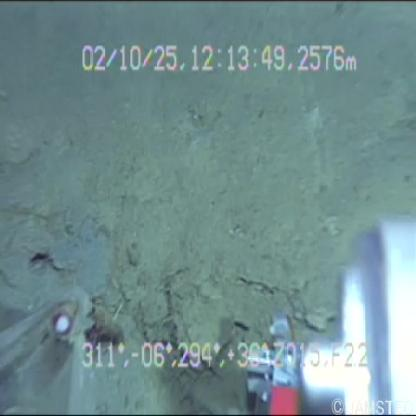Rov: (230, 181, 415, 416)
Rác: (1, 278, 122, 416)
